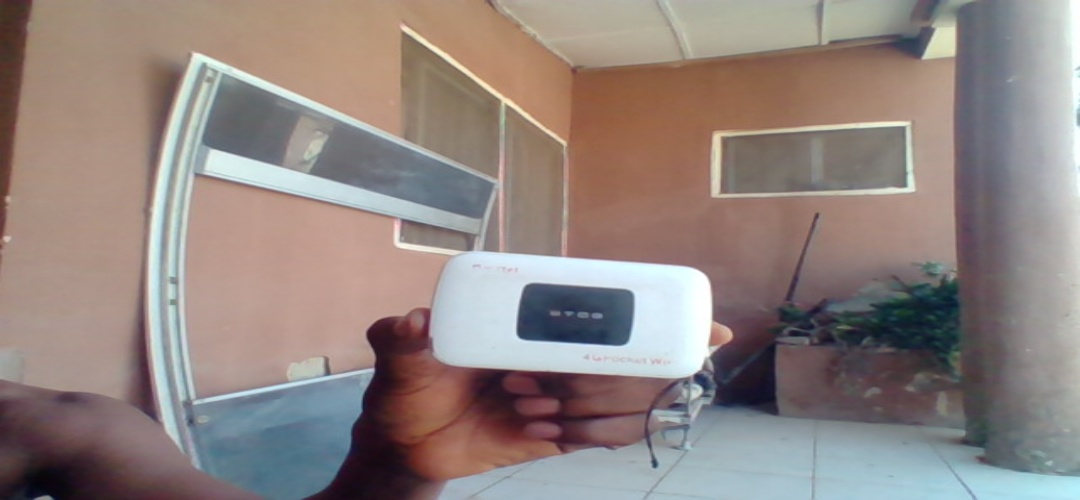mifi: (429, 248, 709, 381)
